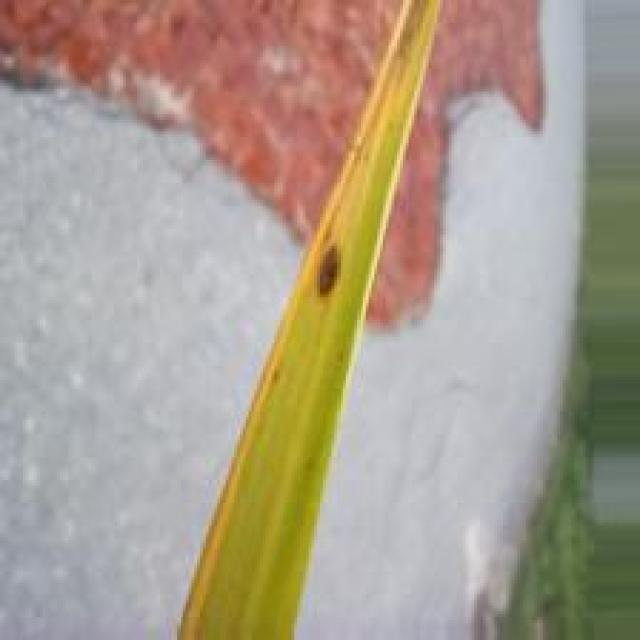Brown_Spot: (393, 0, 430, 58), (315, 241, 344, 302)
